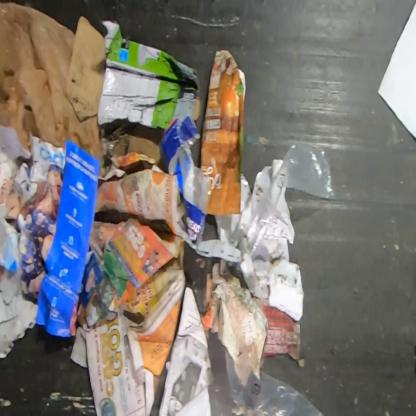cardboard: (64, 15, 202, 131)
soft_plastic: (214, 142, 336, 286), (0, 2, 103, 162), (160, 112, 212, 247), (224, 350, 323, 415)
